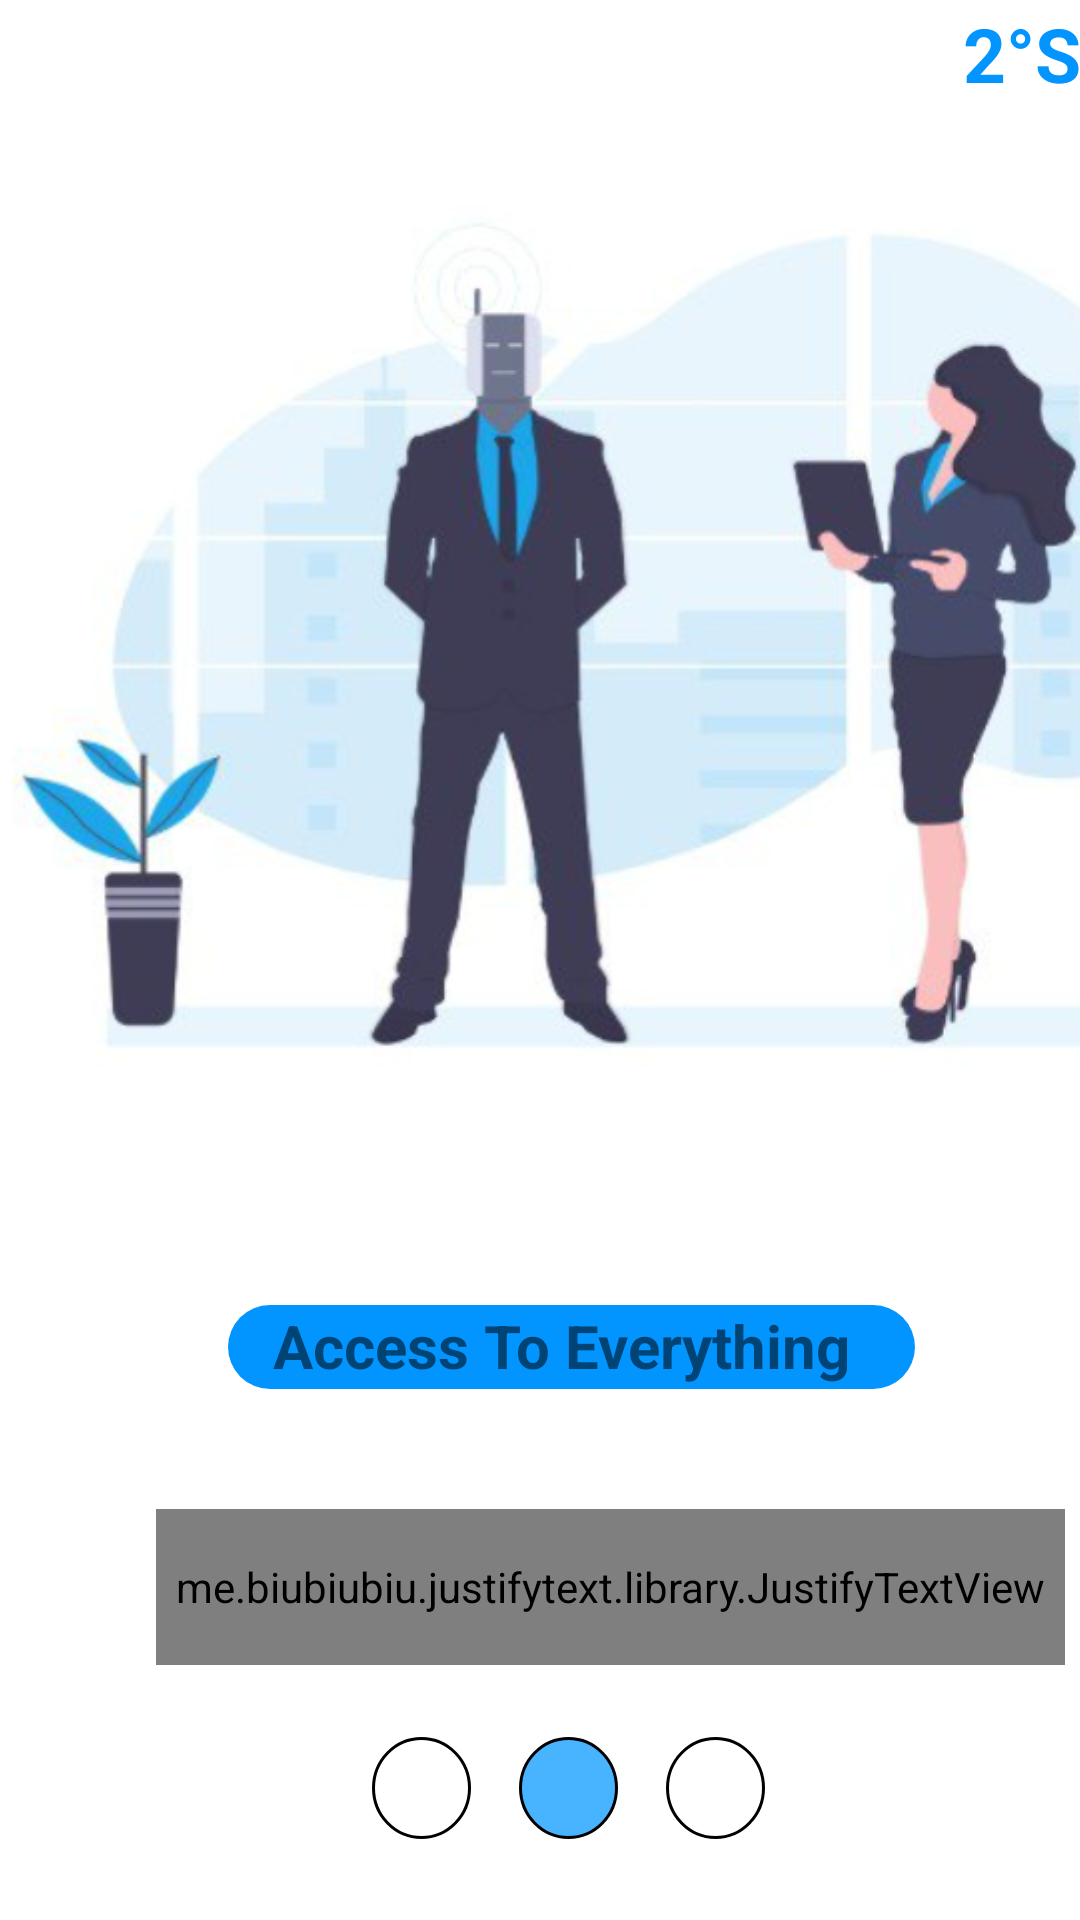

Icons on this 1080px×1920px Android screen, each with the point to tap as (x,y):
circlevide: (421,1788), (715,1788)
